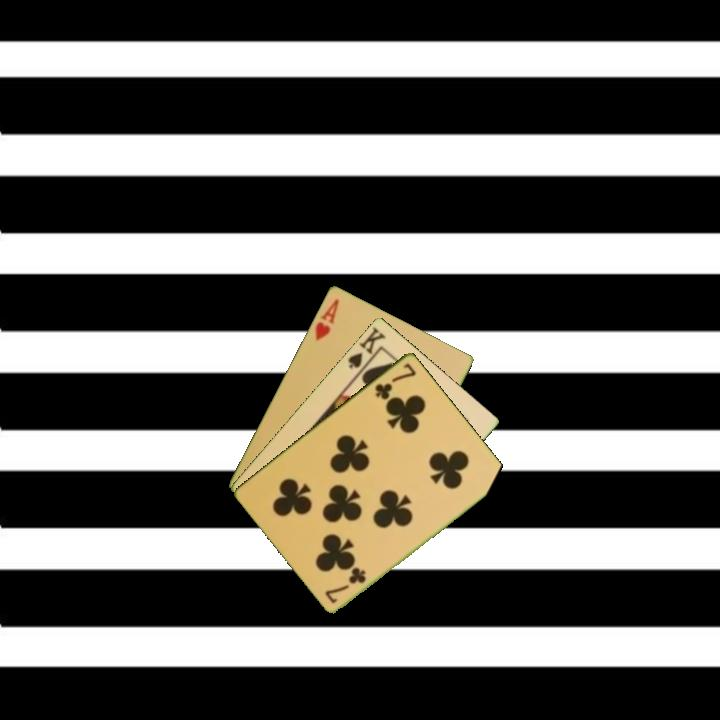7c: (371, 359, 419, 402), (322, 564, 369, 606)
Ah: (311, 295, 342, 343)
Ks: (344, 323, 389, 378)
